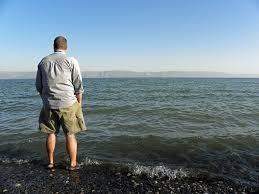FallenBody: (28, 35, 88, 174)
